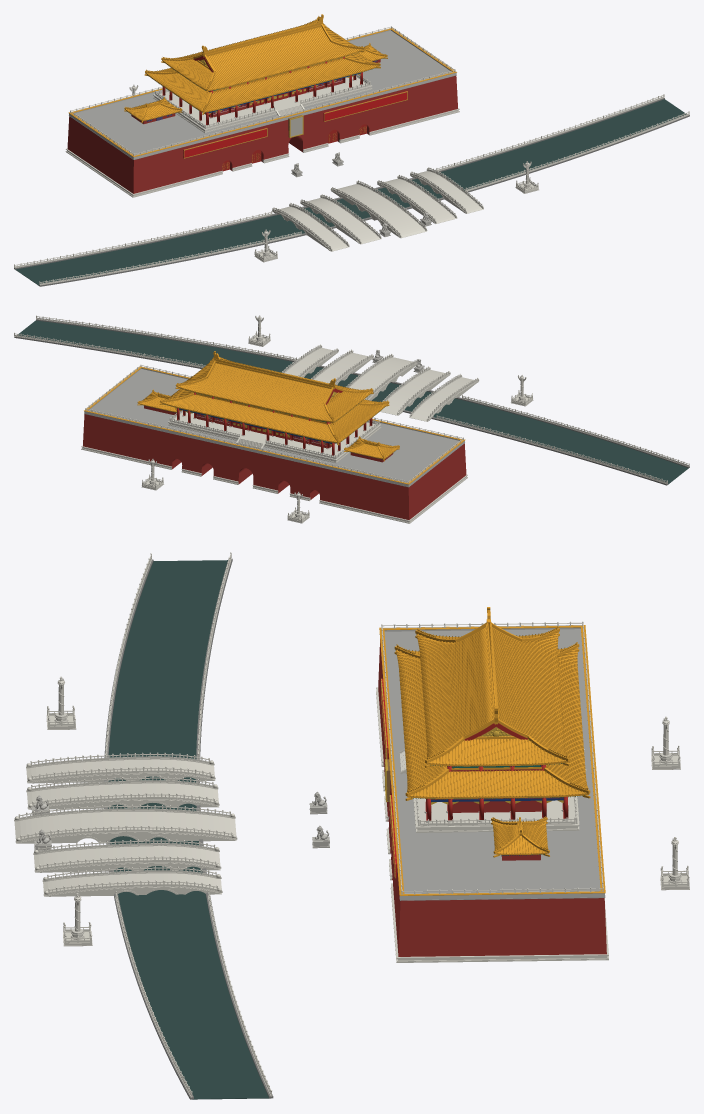
Rendered from tiananmen-gate.glb.
3 renders of one model, top to bottom at view 1: azimuth 30°, elevation 25°; view 2: azimuth 150°, elevation 25°; view 3: azimuth 270°, elevation 25°, orthographic. The views are drawn at different scales.
Parts seen in each view (by area): view 1: tiananmen-gate; view 2: tiananmen-gate; view 3: tiananmen-gate.
Boxes of the visible parts, x1,y1,x2,y2 form: tiananmen-gate: (14, 14, 689, 286); tiananmen-gate: (14, 315, 689, 523); tiananmen-gate: (14, 552, 689, 1099).
Bounding box in the file's own units: 237 × 34.76 × 125.
